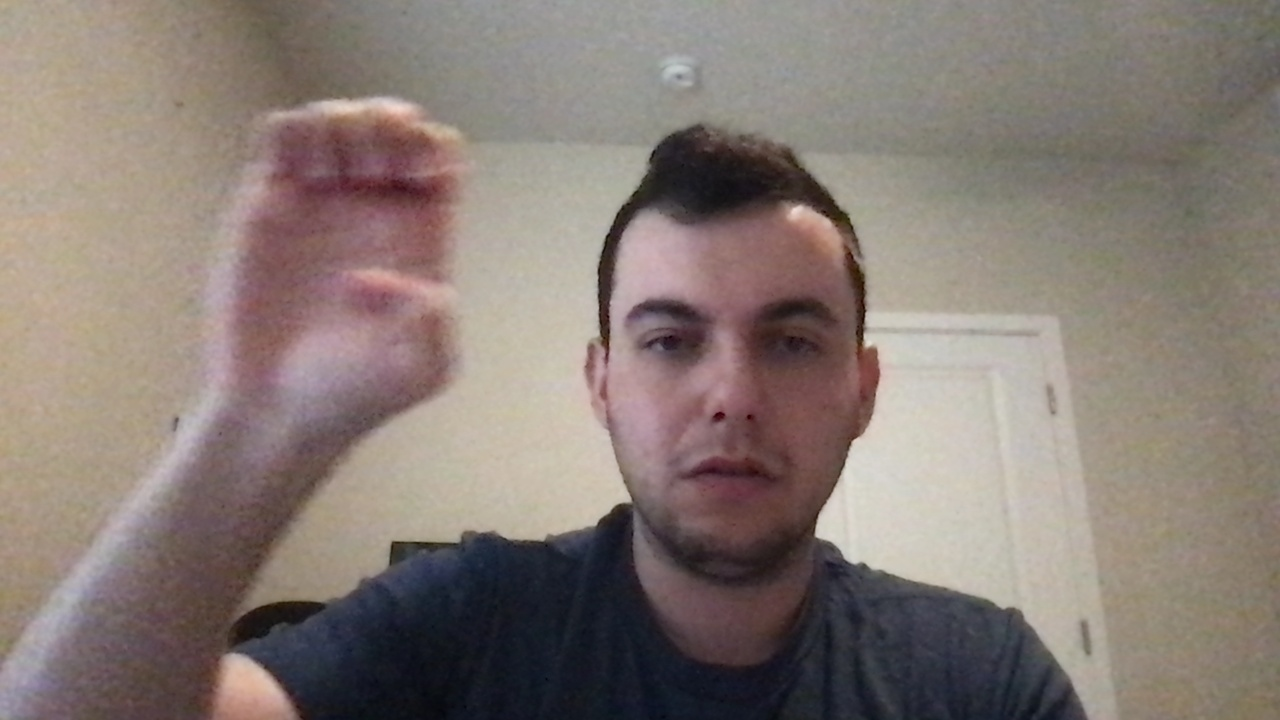e: (184, 87, 499, 449)
